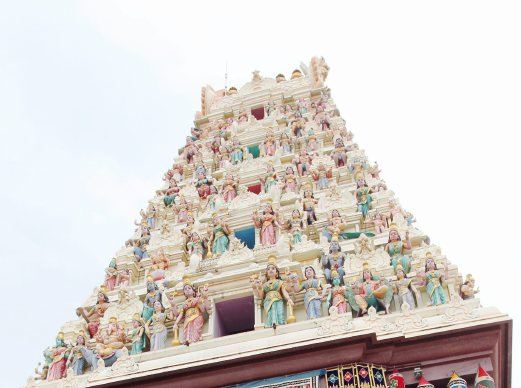Hindu Temple: (85, 63, 455, 372)
